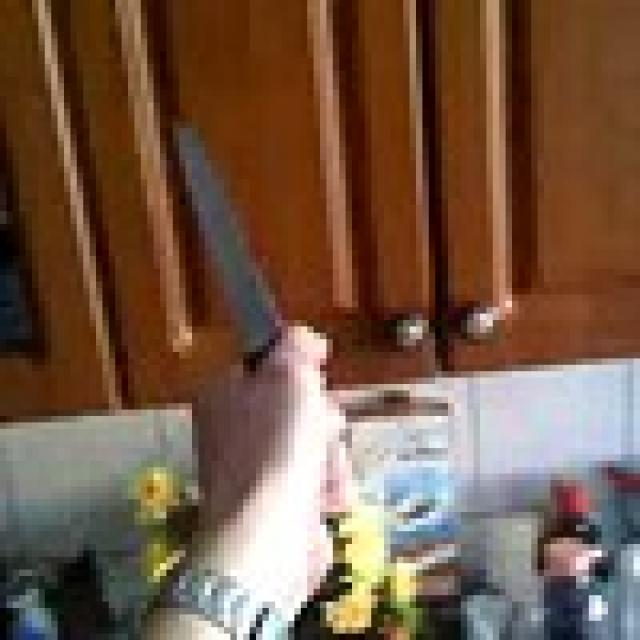Knife: (166, 115, 294, 371)
